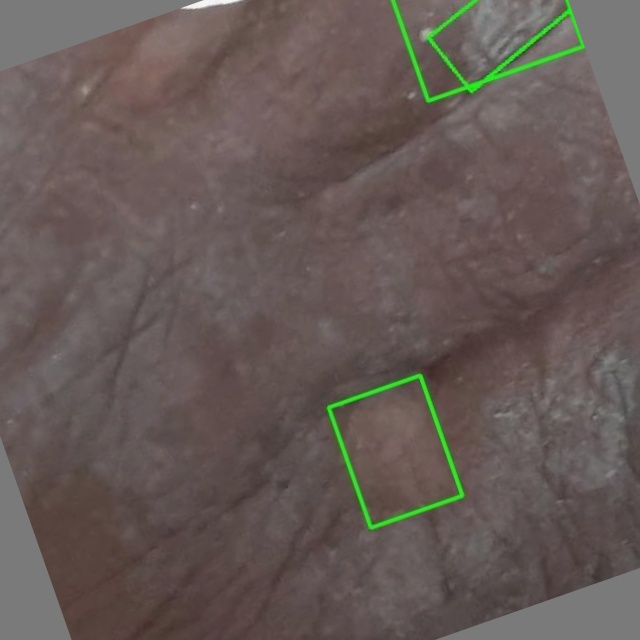Eczema: (328, 375, 462, 527), (427, 0, 570, 92)
